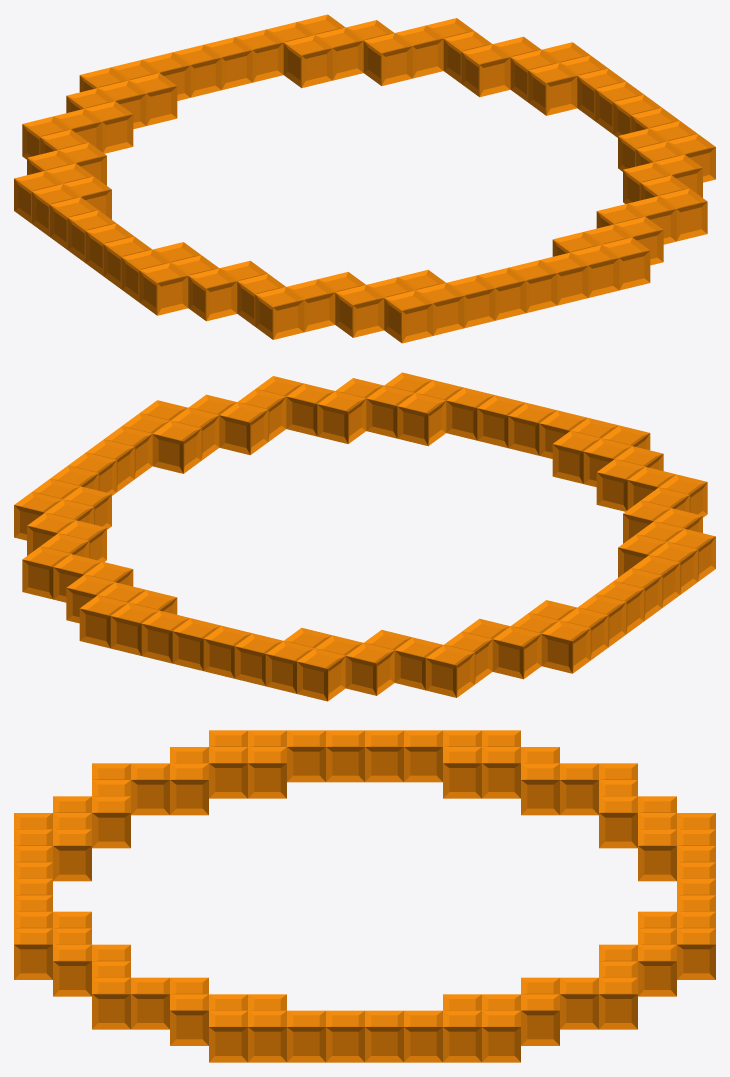
Rendered from Geoda_Anillo.fbx.
3 views of the same model, one above another, from view 1: azimuth 30°, elevation 25°; view 2: azimuth 150°, elevation 25°; view 3: azimuth 270°, elevation 25° (orthographic). The views are drawn at different scales.
Parts seen in each view (by area): view 1: Anillo; view 2: Anillo; view 3: Anillo.
Part boxes in pixels (box(x1,y1,x2,y2)): Anillo: box(14, 14, 715, 343); Anillo: box(14, 372, 715, 701); Anillo: box(14, 730, 715, 1062).
Bounding box in the file's own units: 1.89 × 0.105 × 1.89.
